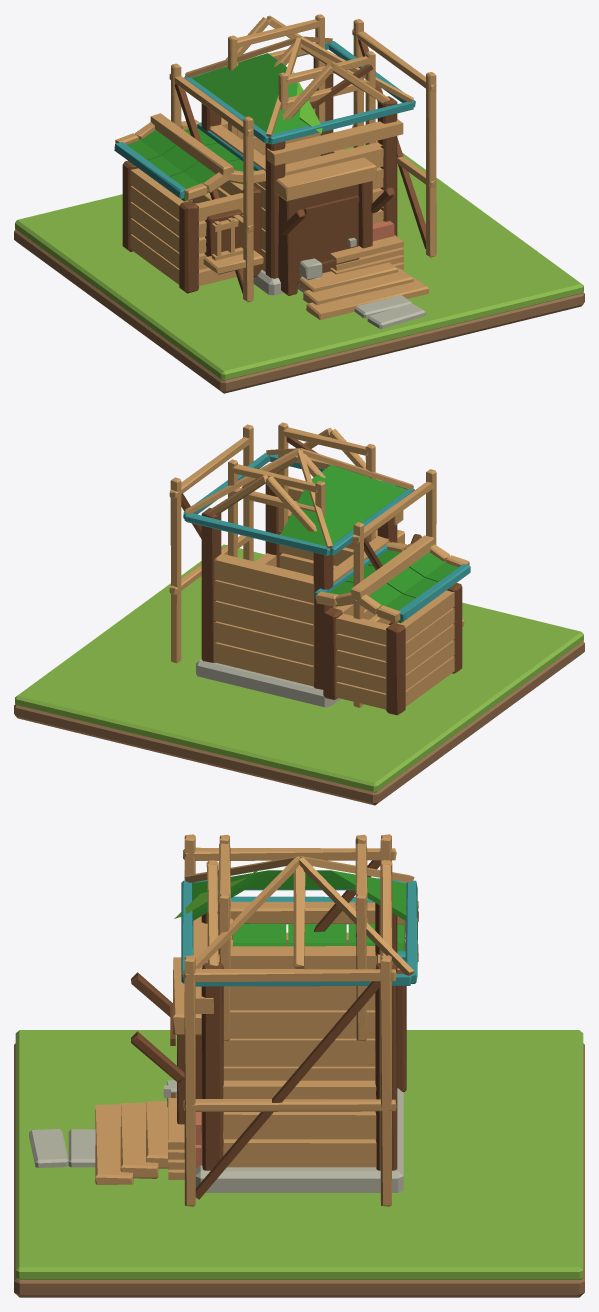
File: town_hall_l03_construction_LOD1.glb
3 renders of one model, top to bottom at view 1: azimuth 30°, elevation 25°; view 2: azimuth 150°, elevation 25°; view 3: azimuth 270°, elevation 25°, orthographic. The views are drawn at different scales.
Visible parts, largest first — view 1: town_hall_l03_construction_foundation.001, town_hall_l03_construction_grass_tile.001, town_hall_l03_construction_earth_tile.001, town_hall_l03_construction_path_stone.005, town_hall_l03_construction_path_stone.004; view 2: town_hall_l03_construction_foundation.001, town_hall_l03_construction_grass_tile.001, town_hall_l03_construction_earth_tile.001; view 3: town_hall_l03_construction_grass_tile.001, town_hall_l03_construction_foundation.001, town_hall_l03_construction_earth_tile.001, town_hall_l03_construction_path_stone.005, town_hall_l03_construction_path_stone.004.
Boxes of the visible parts, x1,y1,x2,y2 form: town_hall_l03_construction_foundation.001: [114, 14, 436, 319]; town_hall_l03_construction_grass_tile.001: [15, 143, 583, 380]; town_hall_l03_construction_earth_tile.001: [14, 229, 584, 393]; town_hall_l03_construction_path_stone.005: [367, 303, 425, 328]; town_hall_l03_construction_path_stone.004: [354, 295, 411, 318]; town_hall_l03_construction_foundation.001: [169, 422, 470, 715]; town_hall_l03_construction_grass_tile.001: [15, 544, 583, 792]; town_hall_l03_construction_earth_tile.001: [14, 641, 584, 805]; town_hall_l03_construction_grass_tile.001: [15, 1030, 583, 1279]; town_hall_l03_construction_foundation.001: [95, 834, 418, 1206]; town_hall_l03_construction_earth_tile.001: [14, 1043, 584, 1297]; town_hall_l03_construction_path_stone.005: [29, 1129, 68, 1167]; town_hall_l03_construction_path_stone.004: [68, 1129, 95, 1167].
Bounding box in the file's own units: 3.6 × 2.24 × 3.6.
